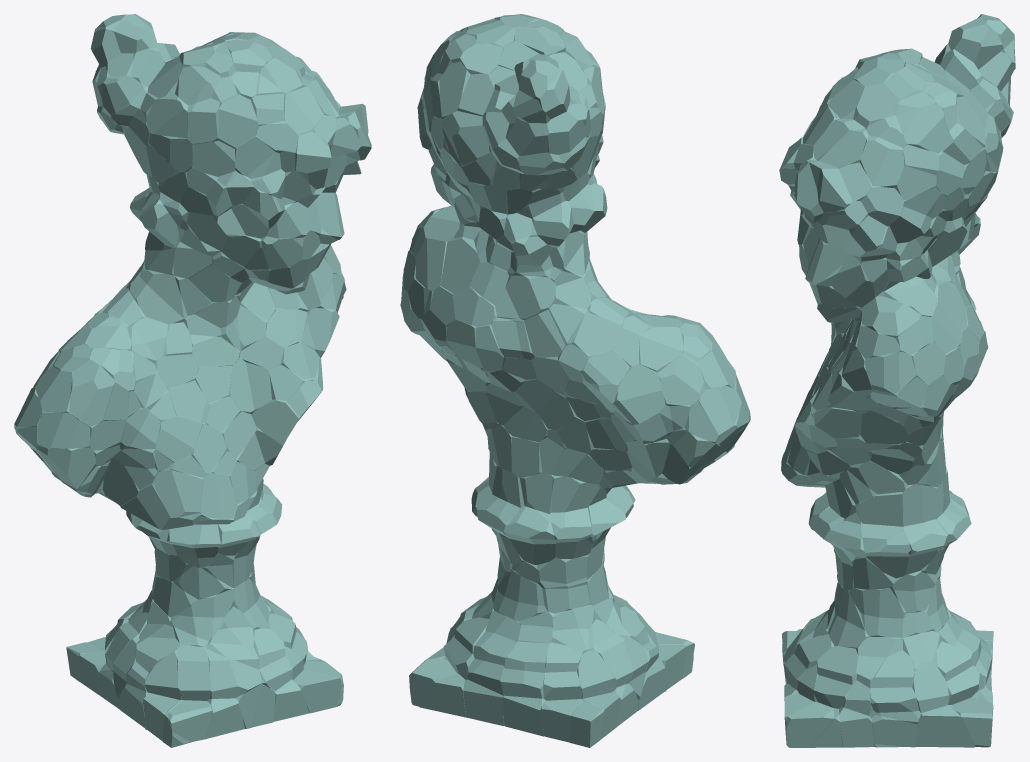
The model's file is statue_small.glb.
3 renders of one model, left to right at view 1: azimuth 30°, elevation 25°; view 2: azimuth 150°, elevation 25°; view 3: azimuth 270°, elevation 25°, orthographic. The views are drawn at different scales.
Parts seen in each view (by area): view 1: 47984; view 2: 47984; view 3: 47984.
Boxes of the visible parts, bbox=[...] form: 47984: bbox=[14, 14, 371, 747]; 47984: bbox=[400, 14, 750, 747]; 47984: bbox=[779, 14, 1015, 747].
Bounding box in the file's own units: 0.8923 × 1.71 × 0.5487.
